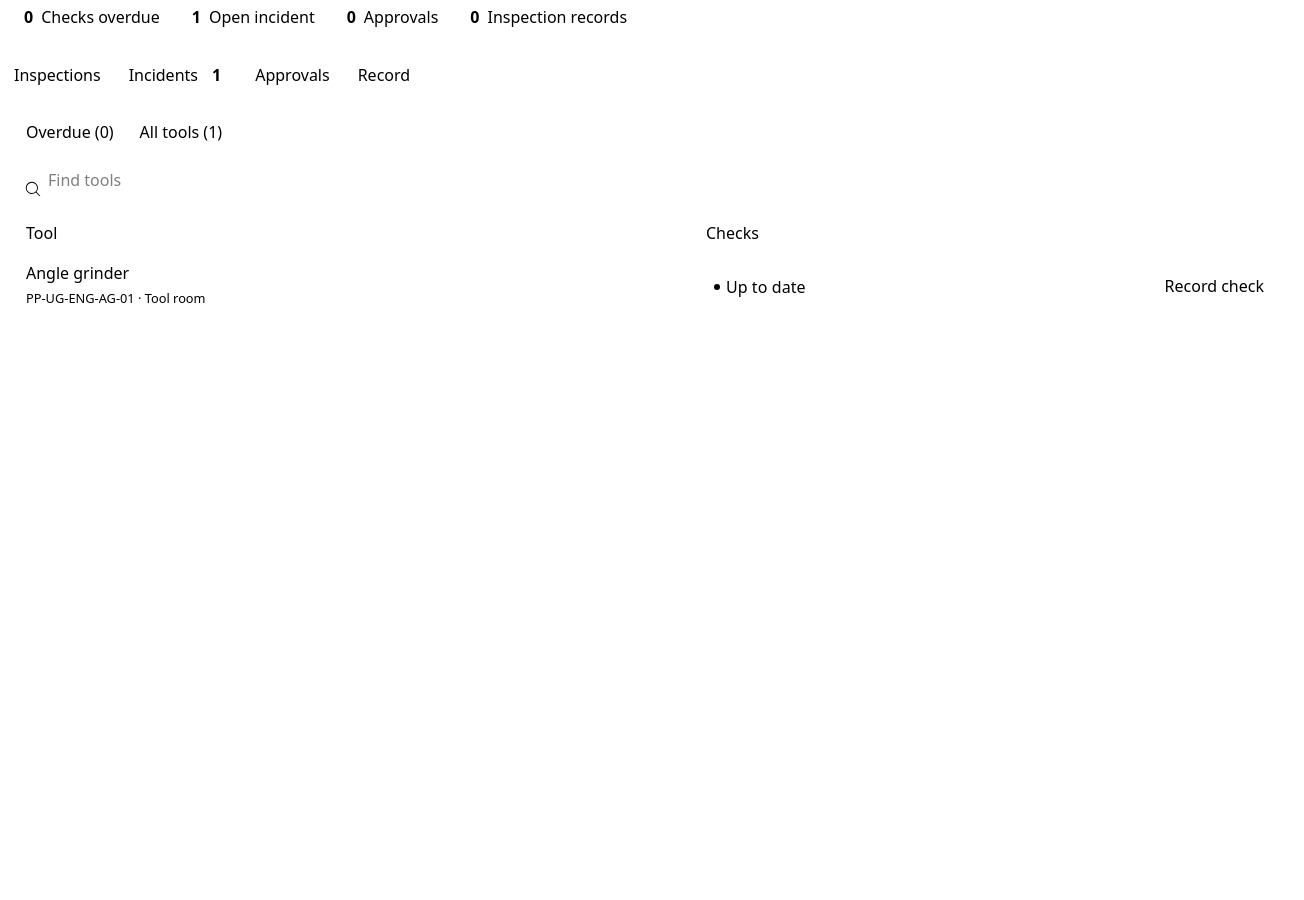
Scenario: ToolsCompliance › close refusal focuses the investigation outcome
The image size is (1304, 900).
Click the tab "Record". click: x=384, y=75
box: [356, 55, 412, 95]
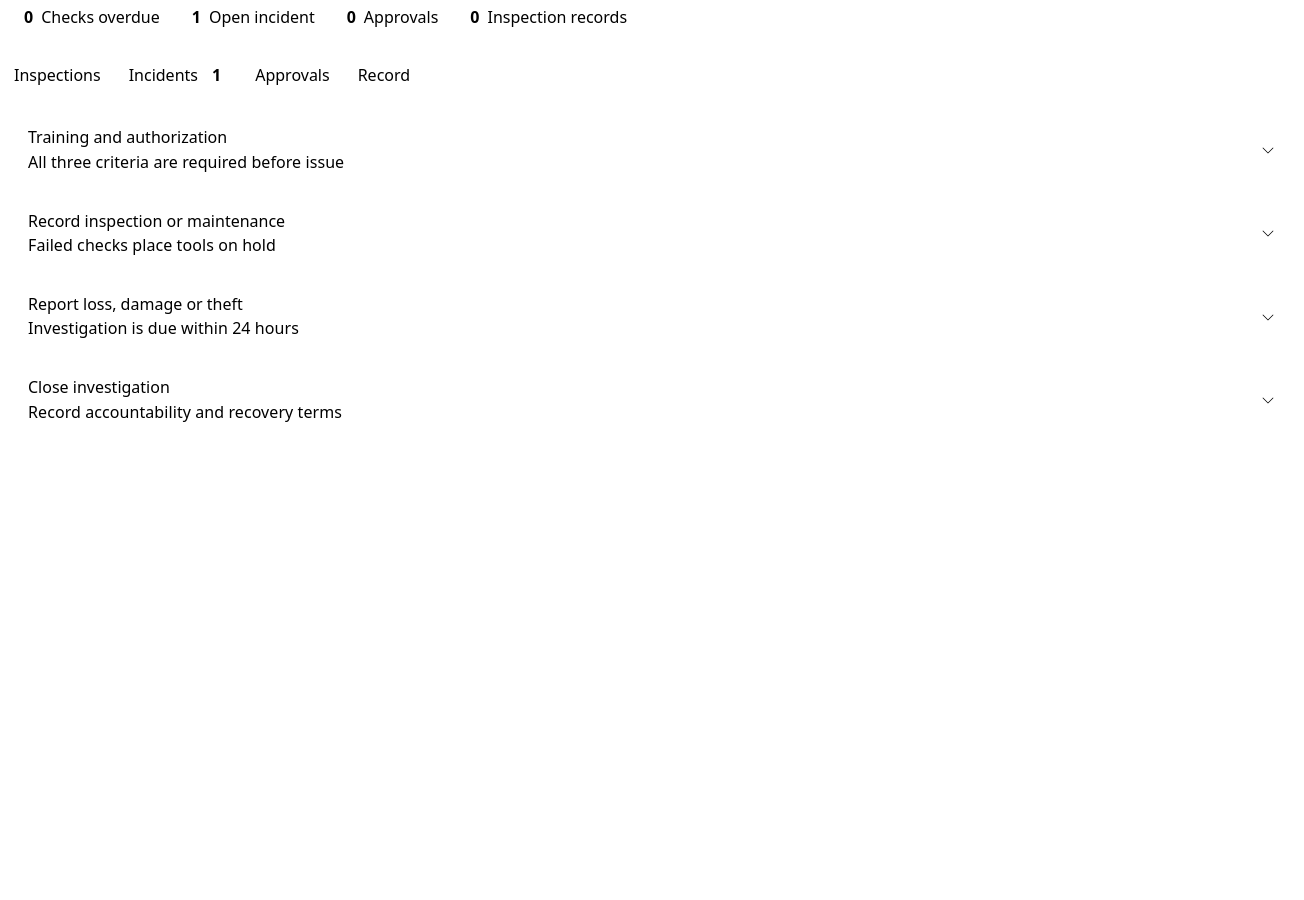
Click the text "Close investigation". click: x=99, y=387
box: [28, 376, 170, 398]
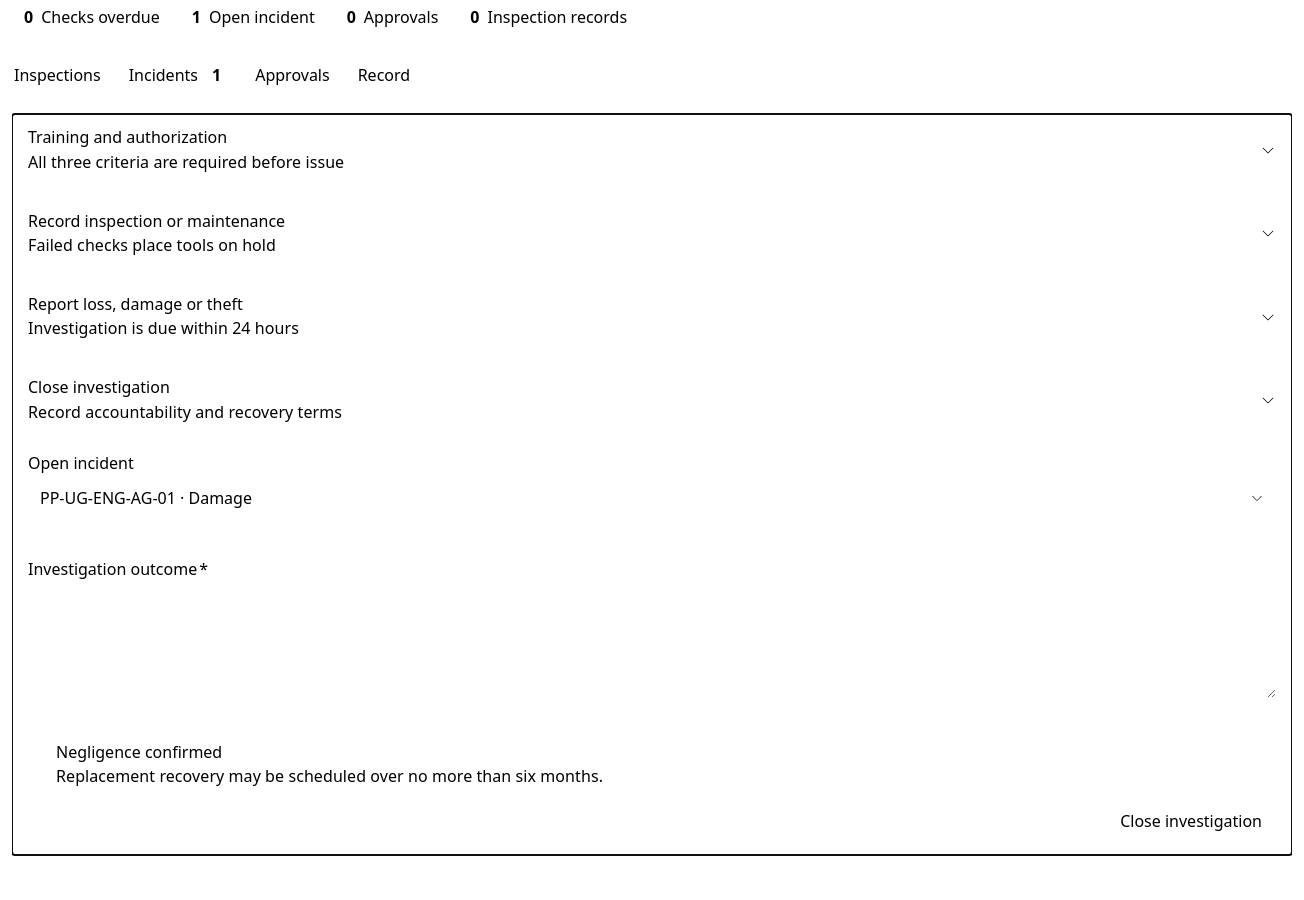
Type "abc" into the text box labelled "Investigation outcome*". click: x=652, y=642
box: [28, 586, 1276, 698]
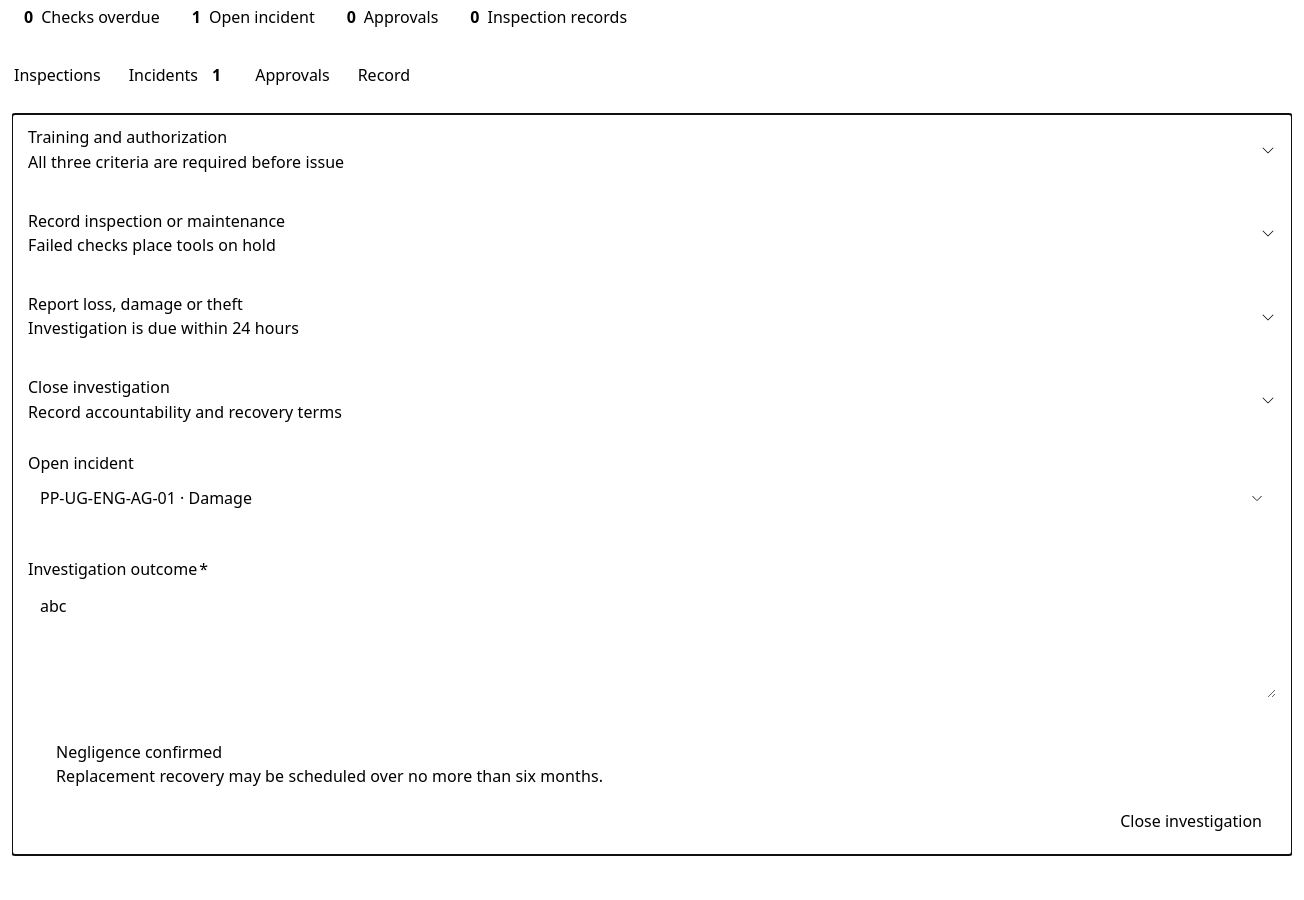
Click the button "Close investigation". click: x=1191, y=821
box: [1106, 803, 1276, 839]
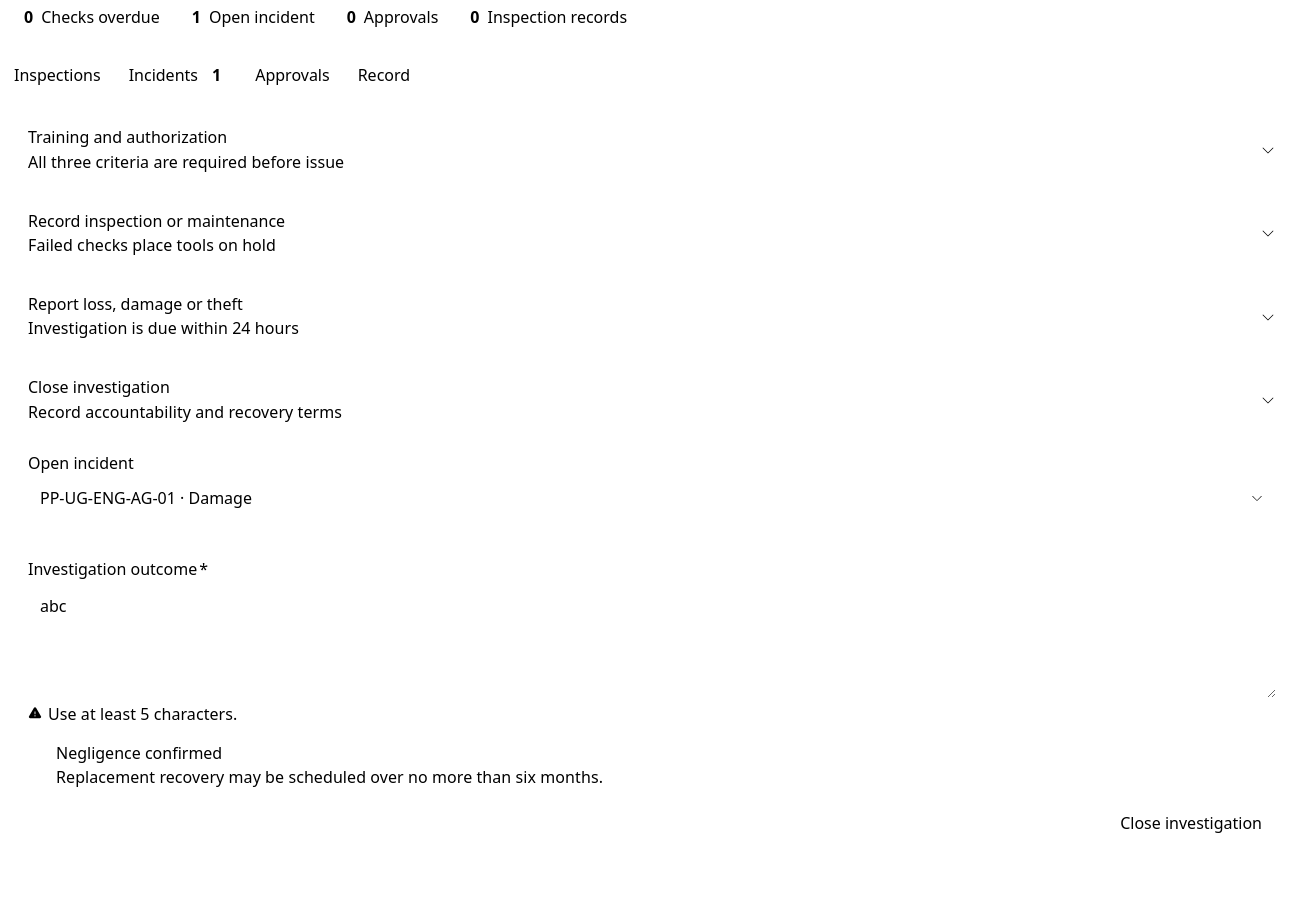
Expected: the text "Use at least 5 characters." is shown, [48, 704, 237, 725]
